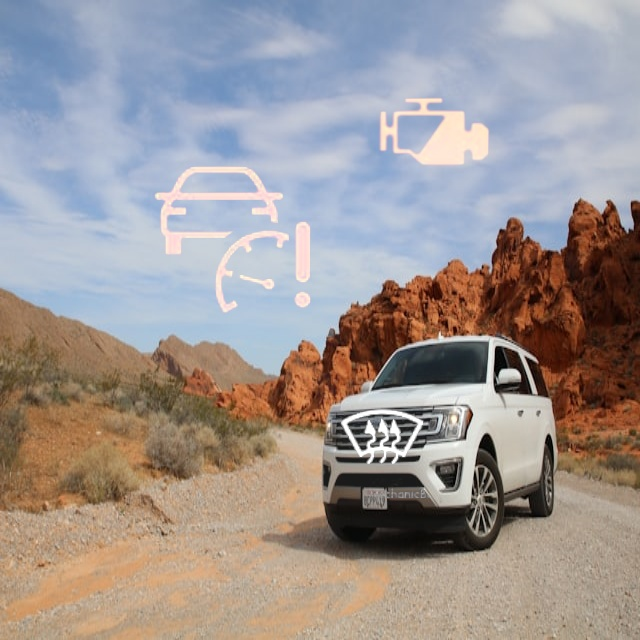symbol: (127, 135, 338, 346), (353, 52, 514, 213), (317, 372, 450, 505)
